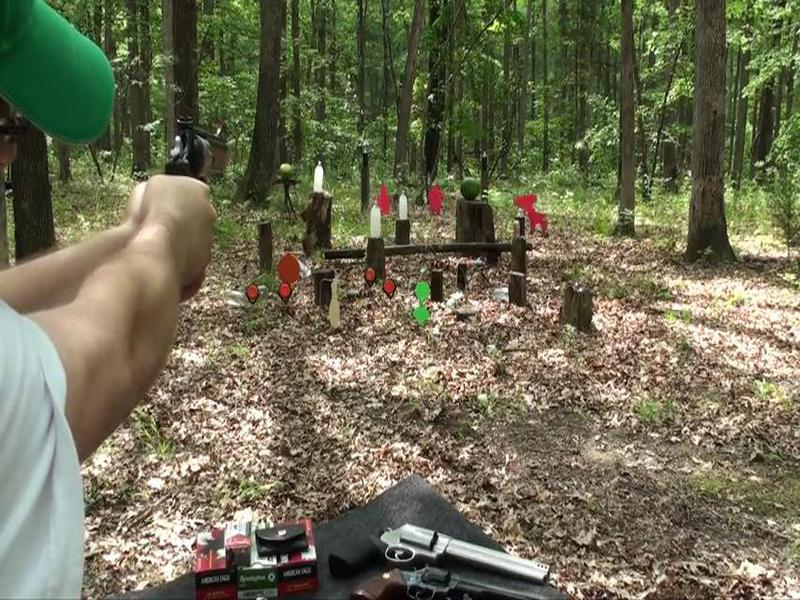Revolver: (154, 104, 247, 222)
